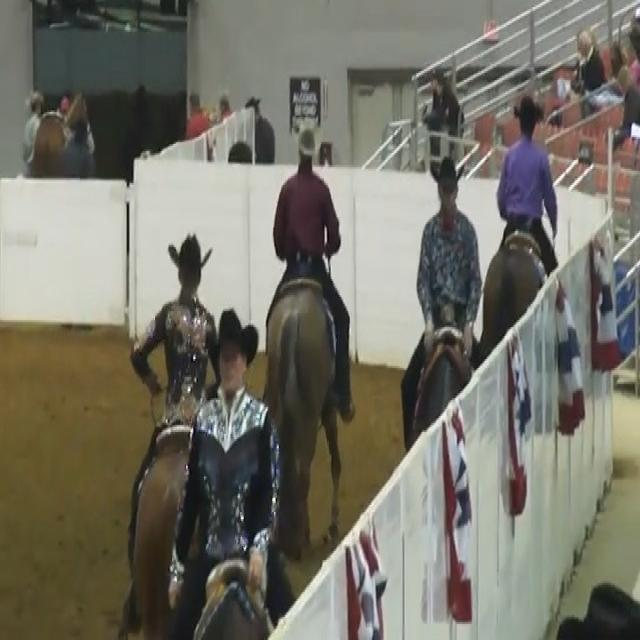horse: (237, 124, 362, 546)
